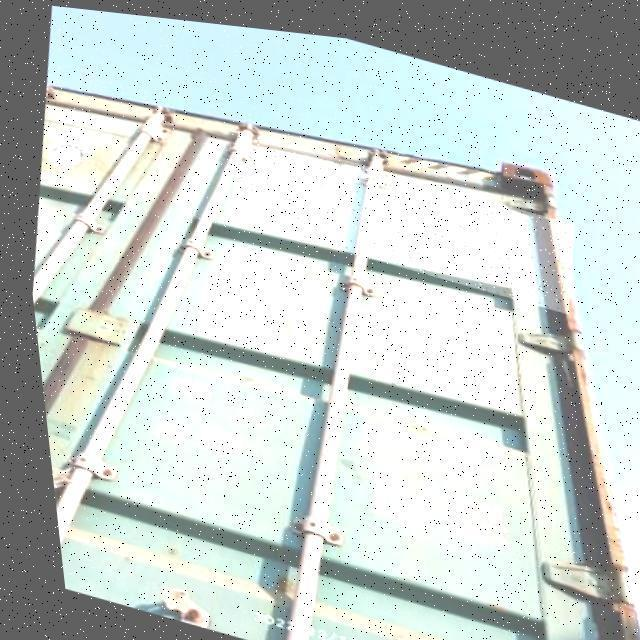container_number_h: (219, 123, 578, 303)
